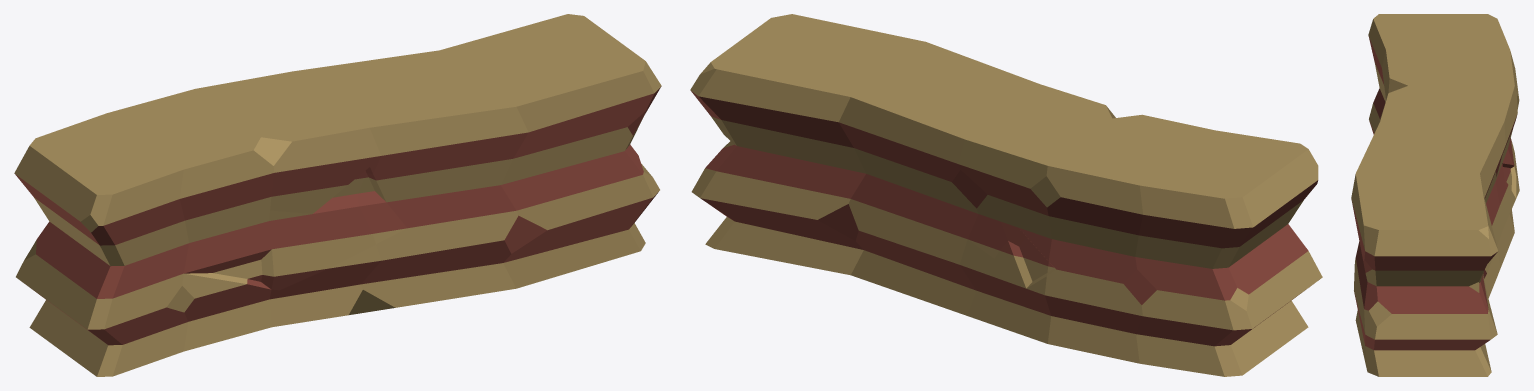
The model's file is WeatheredStone8.fbx.
3 renders of one model, left to right at view 1: azimuth 30°, elevation 25°; view 2: azimuth 150°, elevation 25°; view 3: azimuth 270°, elevation 25°, orthographic. The views are drawn at different scales.
Visible parts, largest first — view 1: Cube.021; view 2: Cube.021; view 3: Cube.021.
Part boxes in pixels (x1,y1,x2,y2): Cube.021: (14, 14, 661, 376); Cube.021: (690, 14, 1322, 376); Cube.021: (1351, 14, 1519, 376).
Bounding box in the file's own units: 10807 × 3268 × 3398.
